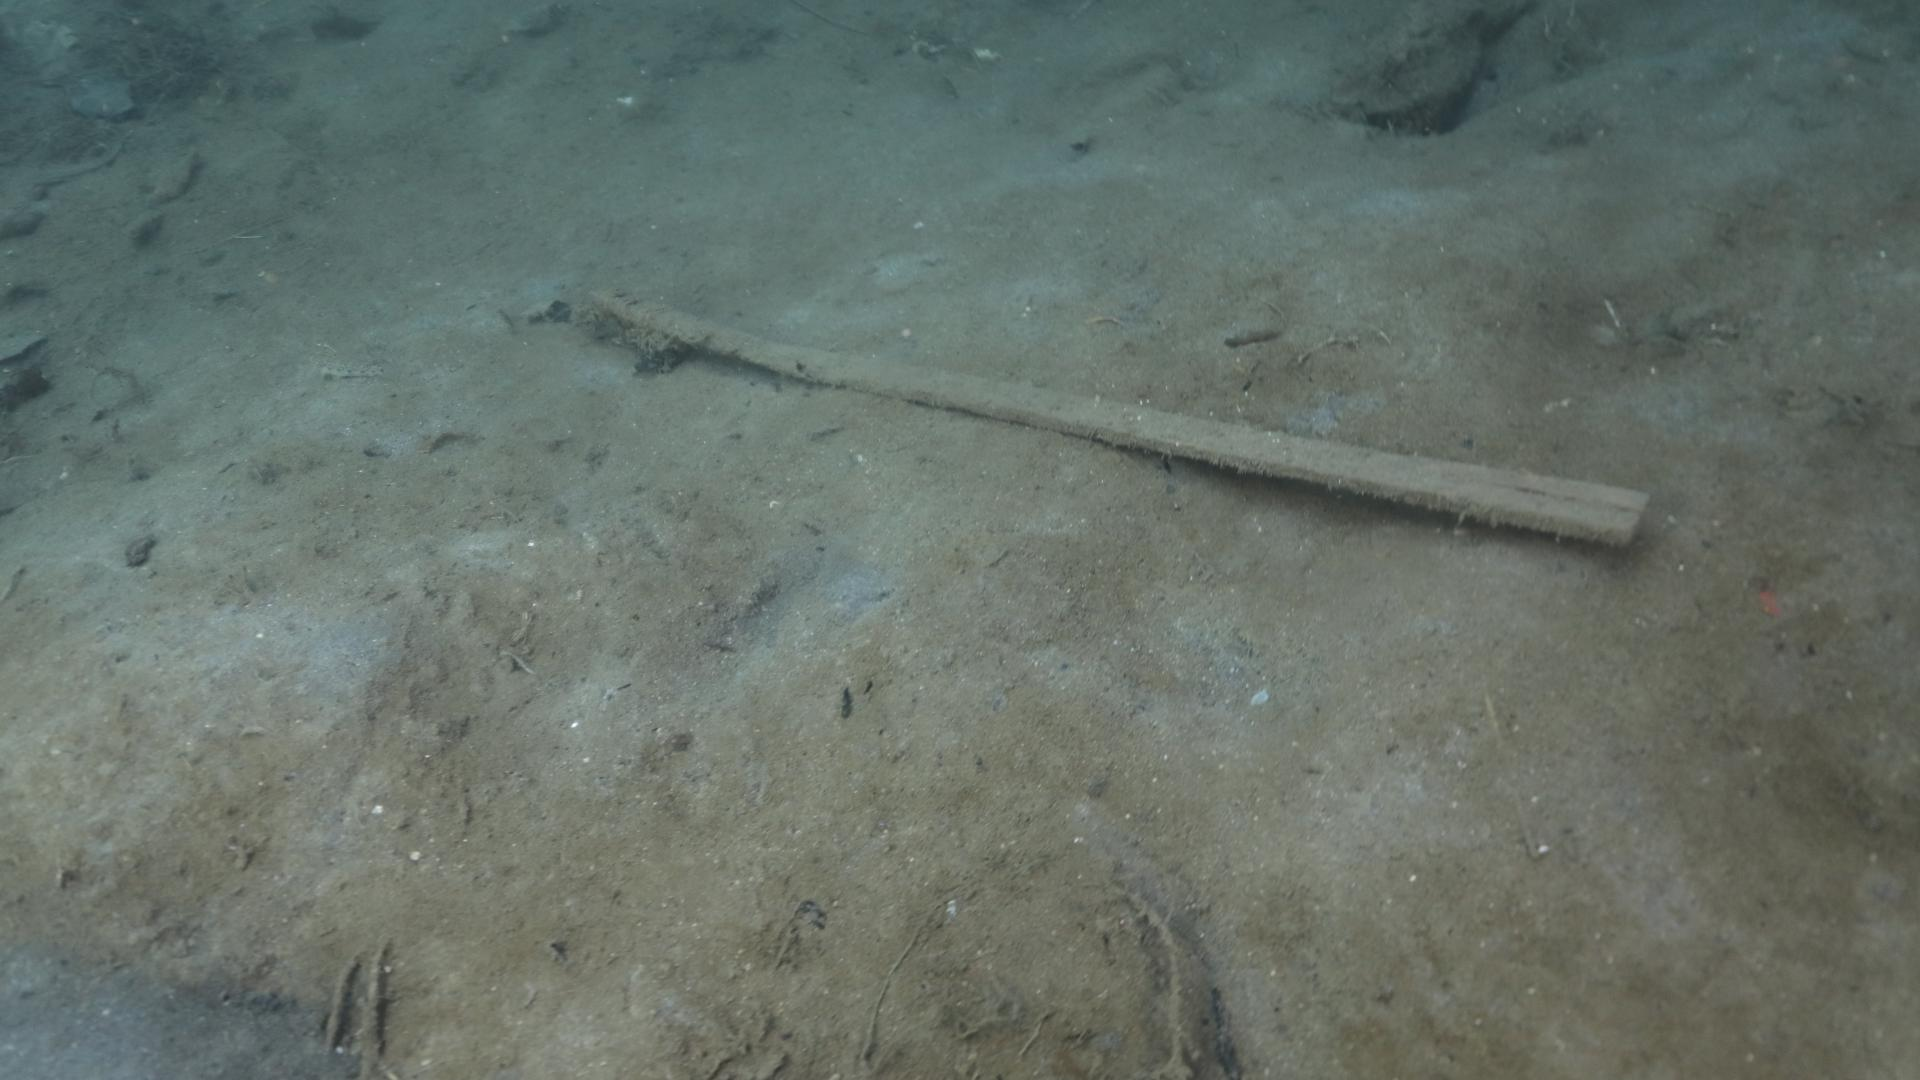wood: (585, 282, 1652, 550)
